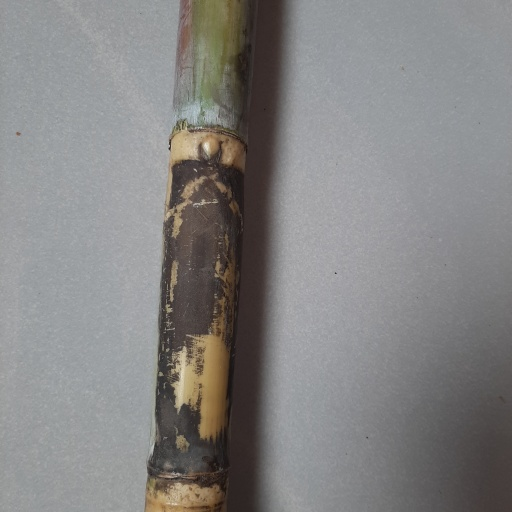Bud: (197, 134, 223, 163)
